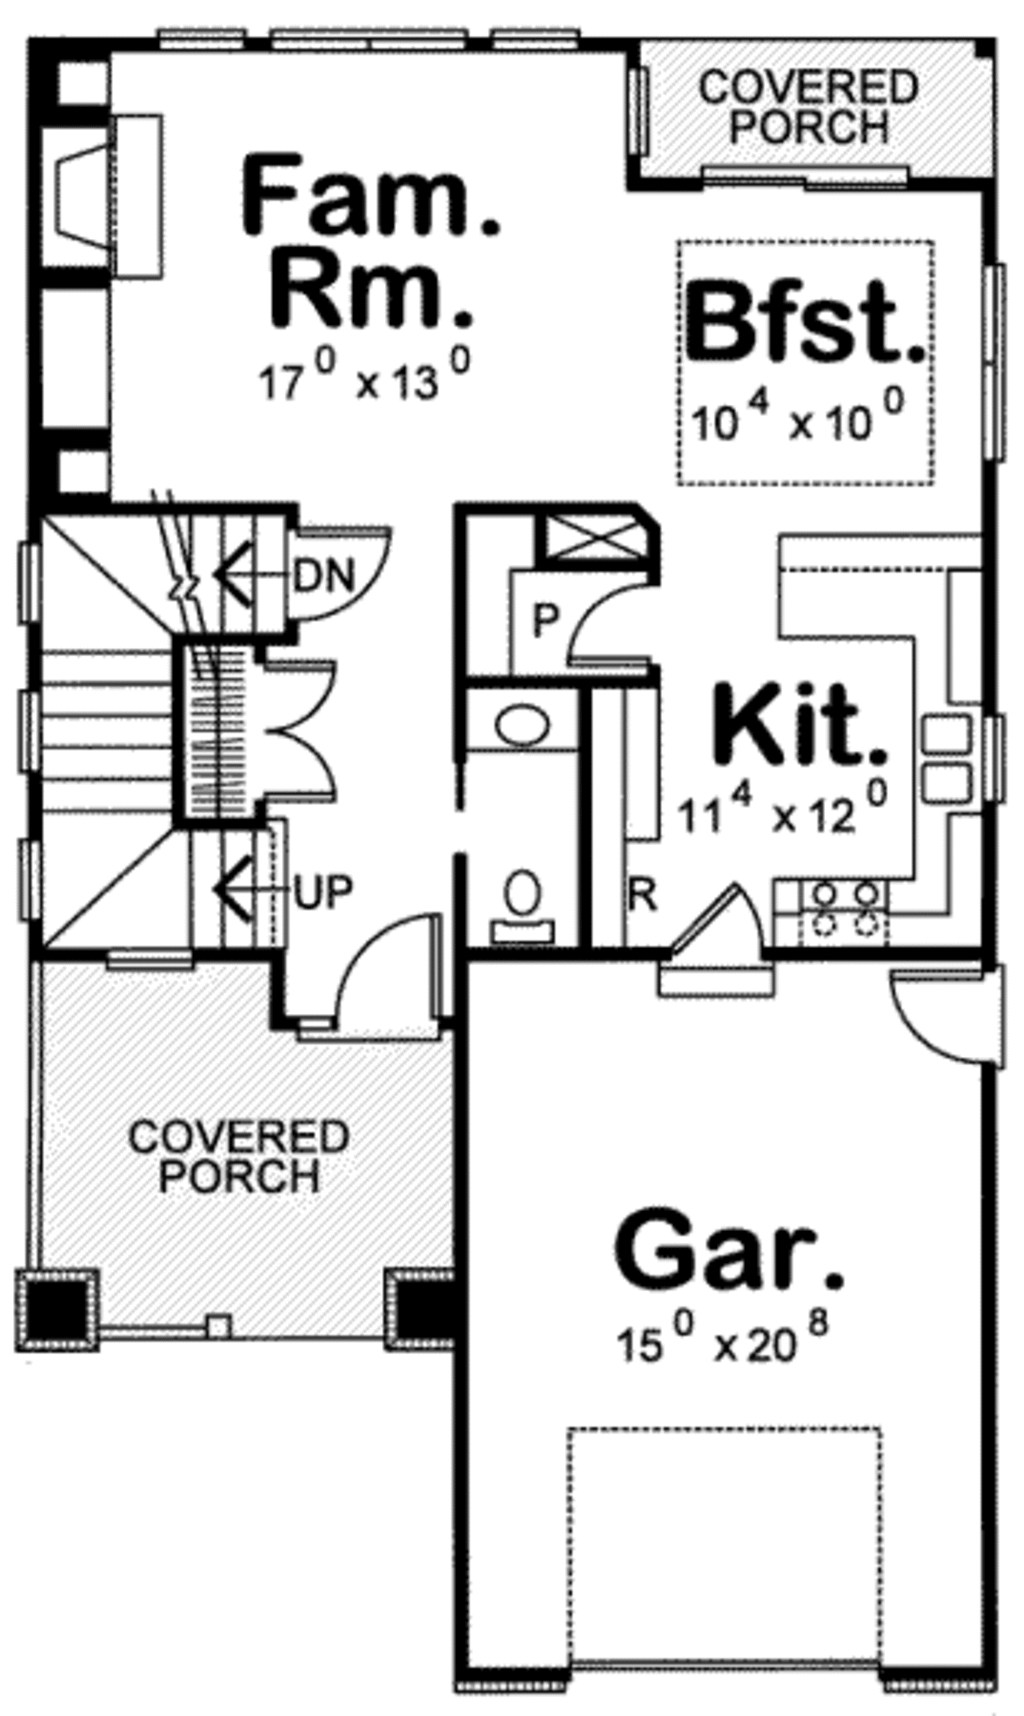door: (296, 910, 456, 1051), (869, 955, 1024, 1085), (277, 508, 405, 643), (661, 875, 786, 1002), (545, 573, 667, 686), (254, 651, 343, 799)
large_sink: (461, 843, 586, 954)
small_sink: (456, 682, 583, 764)
stairs: (41, 508, 286, 951)
window: (123, 2, 596, 76), (1, 530, 41, 930), (972, 251, 1013, 498), (975, 719, 1018, 802)
